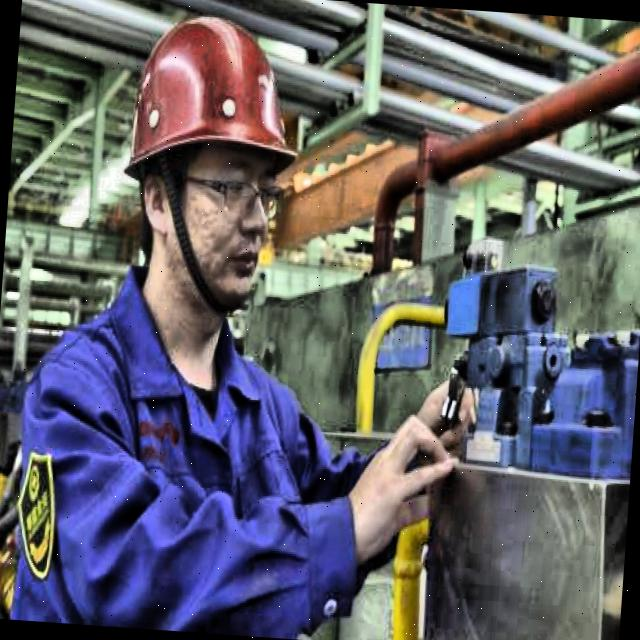helmet: (94, 0, 325, 335)
